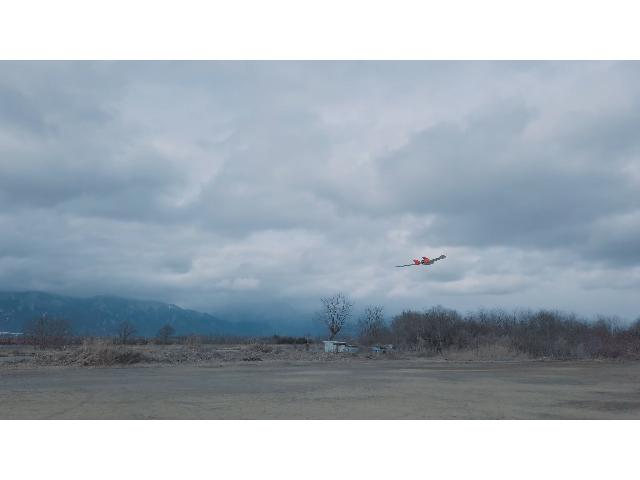Anti-Drone: (392, 250, 448, 272)
